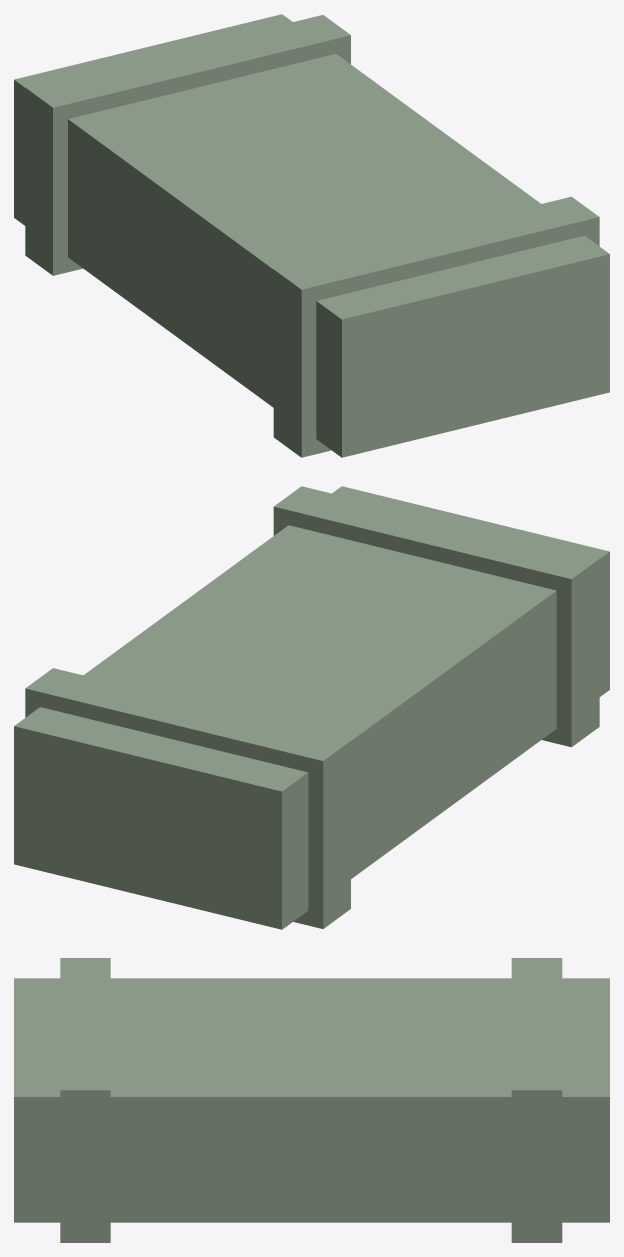
The model's file is ammo_box_02.fbx.
3 views of the same model, one above another, from view 1: azimuth 30°, elevation 25°; view 2: azimuth 150°, elevation 25°; view 3: azimuth 270°, elevation 25° (orthographic). The views are drawn at different scales.
Visible parts, largest first — view 1: ammo_box_02; view 2: ammo_box_02; view 3: ammo_box_02.
Part boxes in pixels (box(x1,y1,x2,y2)): ammo_box_02: box(14, 14, 609, 457); ammo_box_02: box(14, 486, 609, 929); ammo_box_02: box(14, 958, 609, 1242).
Bounding box in the file's own units: 1.08 × 0.5804 × 2.05.
